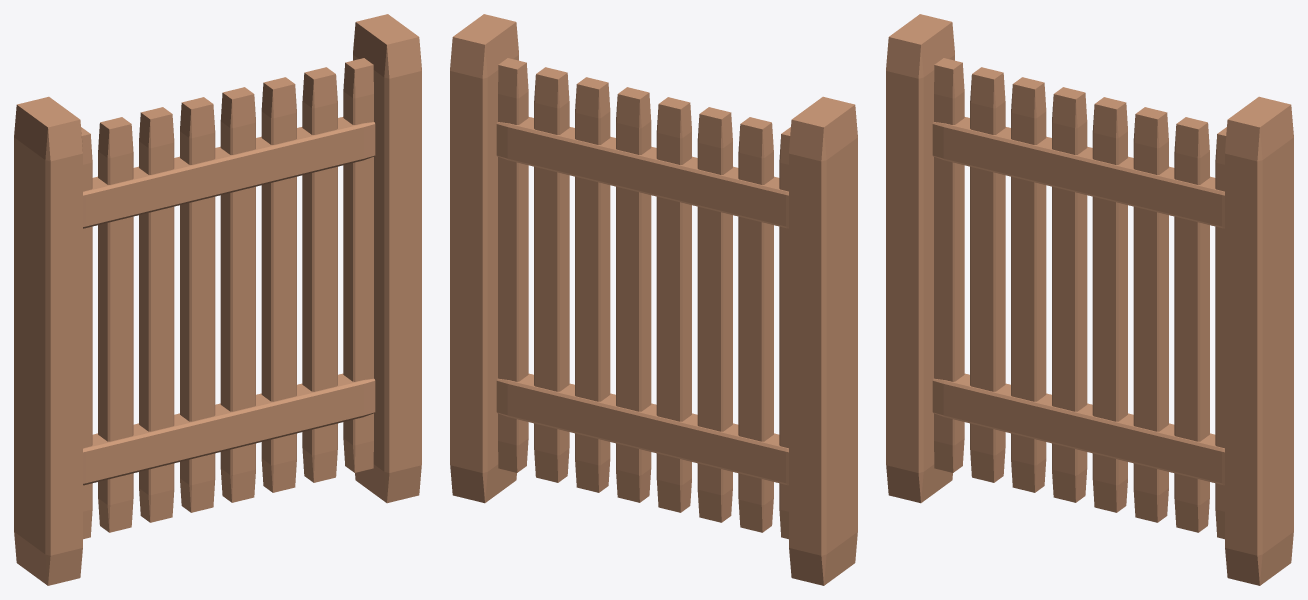
File: b19_geometric_metal_screen_gate.glb
3 views of the same model, side by side, from view 1: azimuth 30°, elevation 25°; view 2: azimuth 150°, elevation 25°; view 3: azimuth 330°, elevation 25° (orthographic).
Visible parts, largest first — view 1: b19_geometric_metal_screen_gate; view 2: b19_geometric_metal_screen_gate; view 3: b19_geometric_metal_screen_gate.
Boxes of the visible parts, box(x1,y1,x2,y2) form: b19_geometric_metal_screen_gate: box(14, 14, 421, 585); b19_geometric_metal_screen_gate: box(450, 14, 857, 585); b19_geometric_metal_screen_gate: box(886, 14, 1293, 585).
Bounding box in the file's own units: 1.73 × 2.01 × 0.29.
